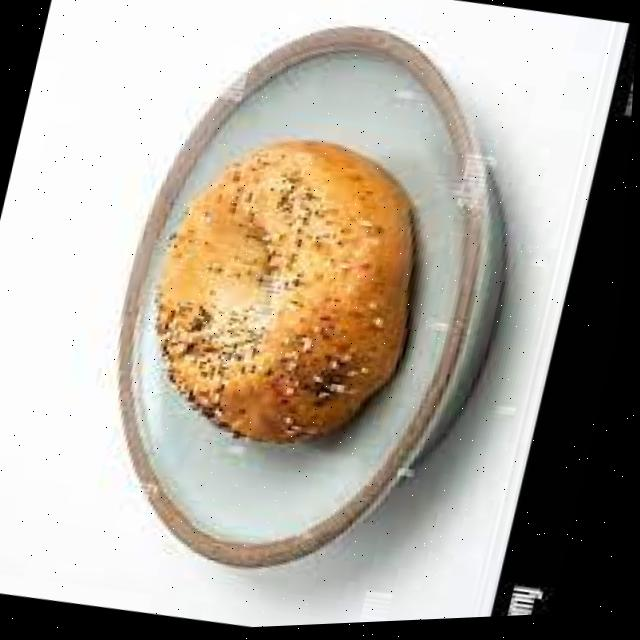Bagel: (159, 142, 416, 445)
